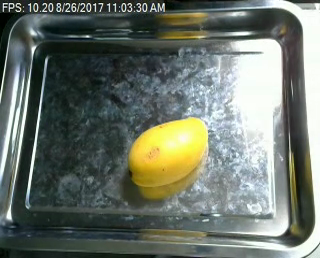Mango: (130, 108, 209, 191)
